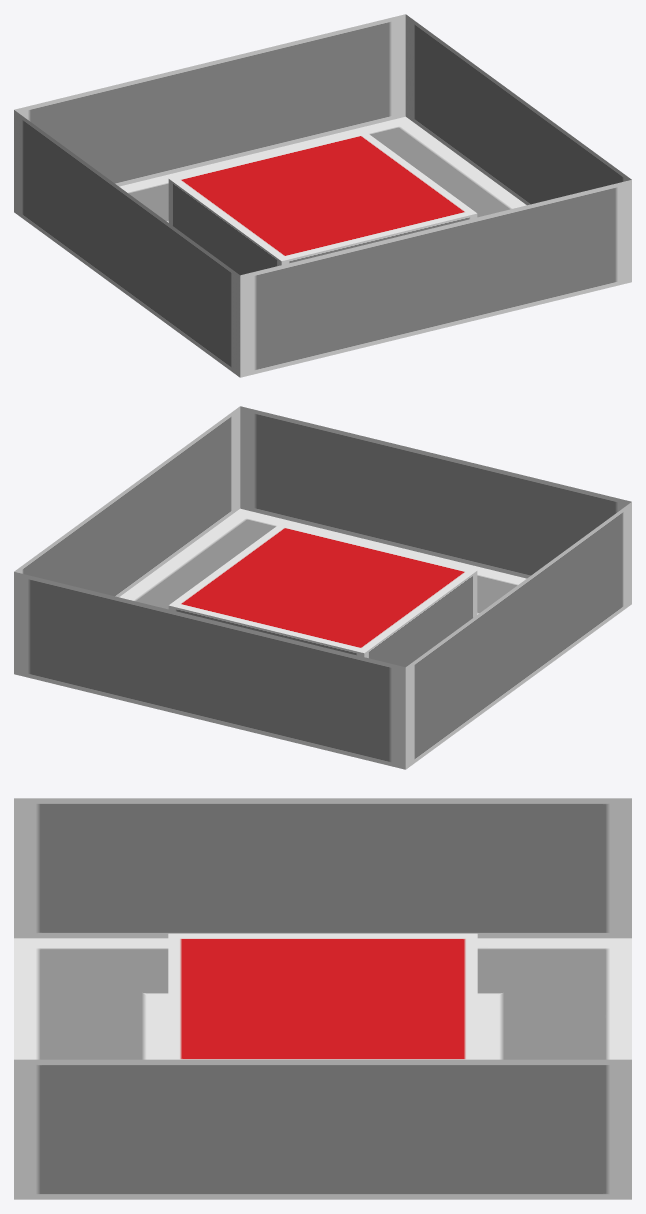
File: puzzle_hole2.dae
3 renders of one model, top to bottom at view 1: azimuth 30°, elevation 25°; view 2: azimuth 150°, elevation 25°; view 3: azimuth 270°, elevation 25°, orthographic. The views are drawn at different scales.
Parts seen in each view (by area): view 1: puzzle_hole2; view 2: puzzle_hole2; view 3: puzzle_hole2.
Boxes of the visible parts, bbox=[...] form: puzzle_hole2: bbox=[14, 14, 631, 377]; puzzle_hole2: bbox=[14, 406, 631, 769]; puzzle_hole2: bbox=[14, 798, 631, 1199].
Bounding box in the file's own units: 0.4 × 0.4 × 0.1.
Materials: 2 (2 with a texture image).
